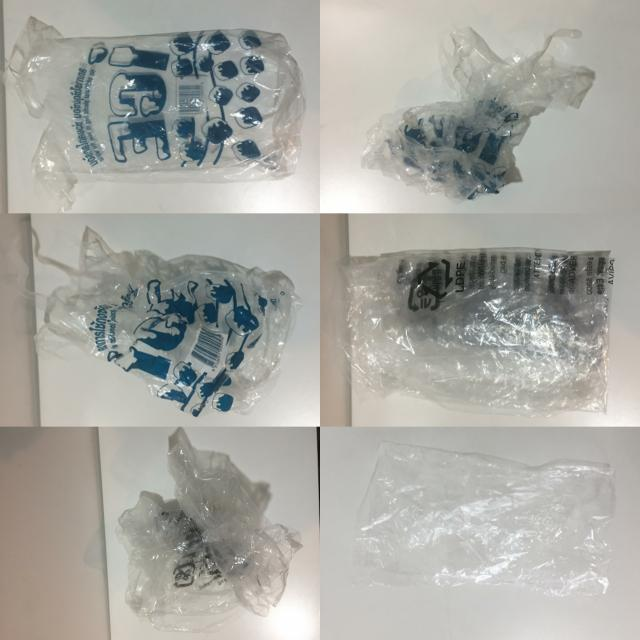Single-layer Plastic: (9, 18, 305, 210), (38, 228, 300, 417), (347, 248, 612, 415), (353, 441, 615, 596), (362, 28, 594, 199), (116, 428, 301, 631)
